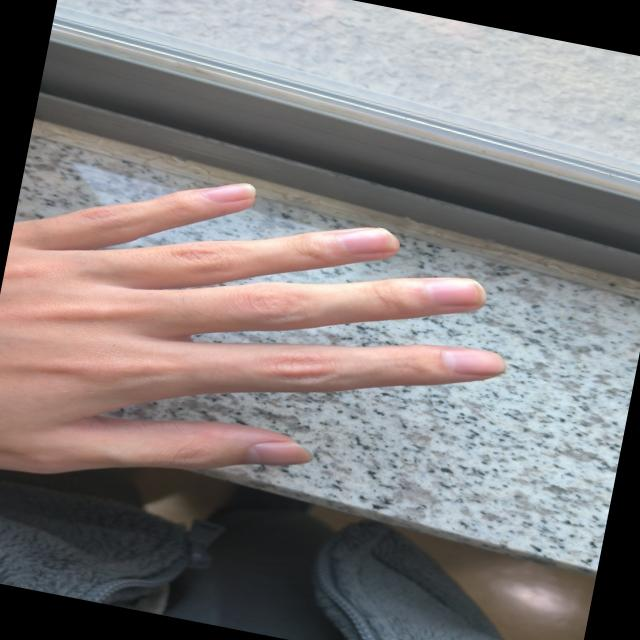Nail: (442, 348, 504, 376), (423, 278, 485, 306), (333, 227, 394, 254), (246, 442, 311, 465), (200, 183, 254, 202)
